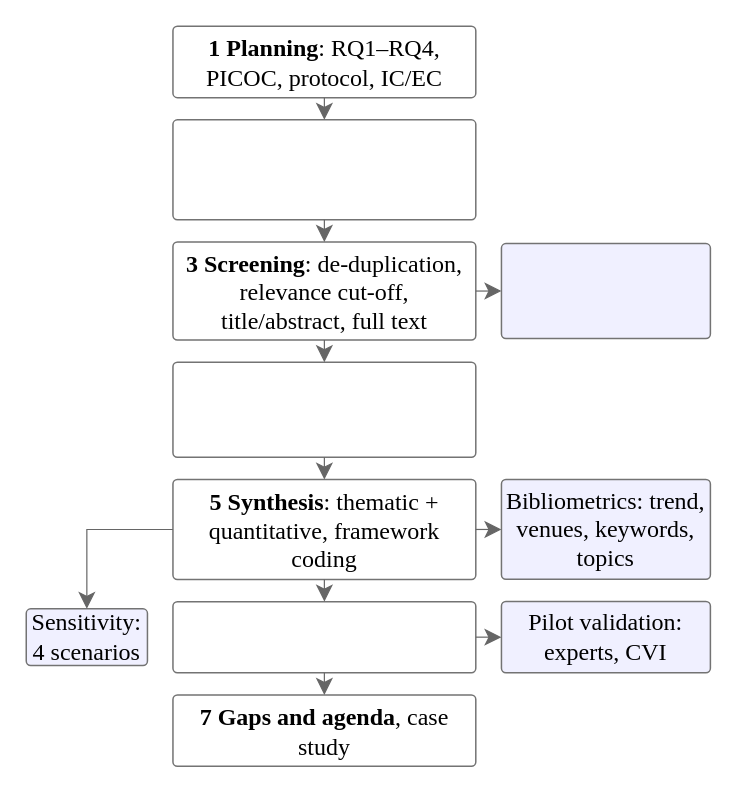
Image size: 738x794. Some labels were removed from this diagram. The box of each missing label's shape, as (x1, y1, x2, y2) in pixels:
2 Search : 5 sources, strings S1–S3, validation on known papers: (171, 118, 476, 220)
4 Quality and extraction : 8 QA items, 27 extraction fields: (171, 361, 476, 457)
6 Framework and propositions P1–P6: (171, 600, 476, 673)
Agreement sample (65 records), Cohen's κ: (500, 242, 710, 339)
